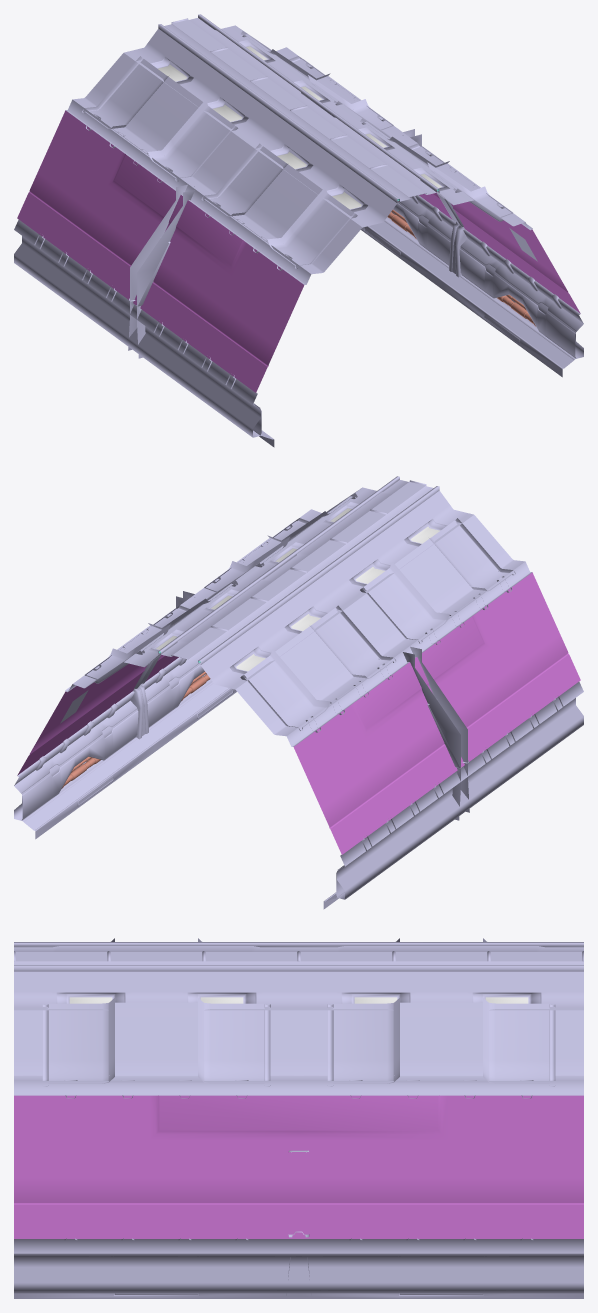
File: Hall.fbx
The picture shows the model from 3 angles, top to bottom: view 1: azimuth 30°, elevation 25°; view 2: azimuth 150°, elevation 25°; view 3: azimuth 270°, elevation 25°; orthographic projection. The views are drawn at different scales.
Visible parts, largest first — view 1: Hall; view 2: Hall; view 3: Hall.
Part boxes in pixels (left/top/right/bottom): Hall: left=14, top=14, right=583, bottom=447; Hall: left=14, top=476, right=583, bottom=909; Hall: left=14, top=938, right=583, bottom=1298.
Bounding box in the file's own units: 8.05 × 5.04 × 10.
